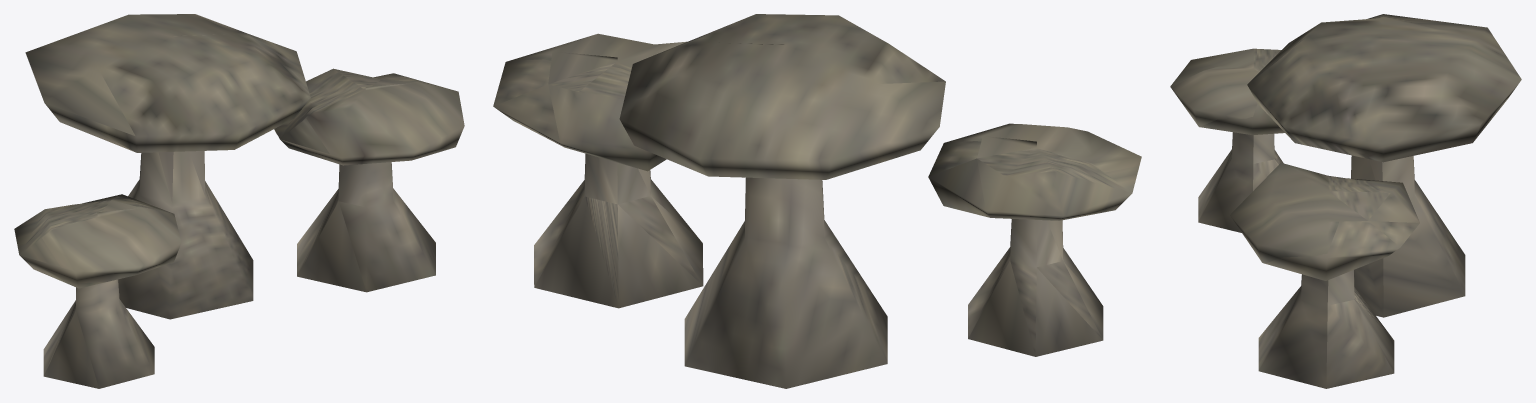
File: shroom_pale_toad.glb
3 views of the same model, side by side, from view 1: azimuth 30°, elevation 25°; view 2: azimuth 150°, elevation 25°; view 3: azimuth 270°, elevation 25° (orthographic). The views are drawn at different scales.
Visible parts, largest first — view 1: shroom_pale_toad; view 2: shroom_pale_toad; view 3: shroom_pale_toad.
Boxes of the visible parts, x1,y1,x2,y2 form: shroom_pale_toad: [14, 14, 464, 388]; shroom_pale_toad: [493, 14, 1141, 388]; shroom_pale_toad: [1170, 14, 1521, 388].
Bounding box in the file's own units: 0.5125 × 0.2509 × 0.3348.
Materials: 1 (1 with a texture image).
